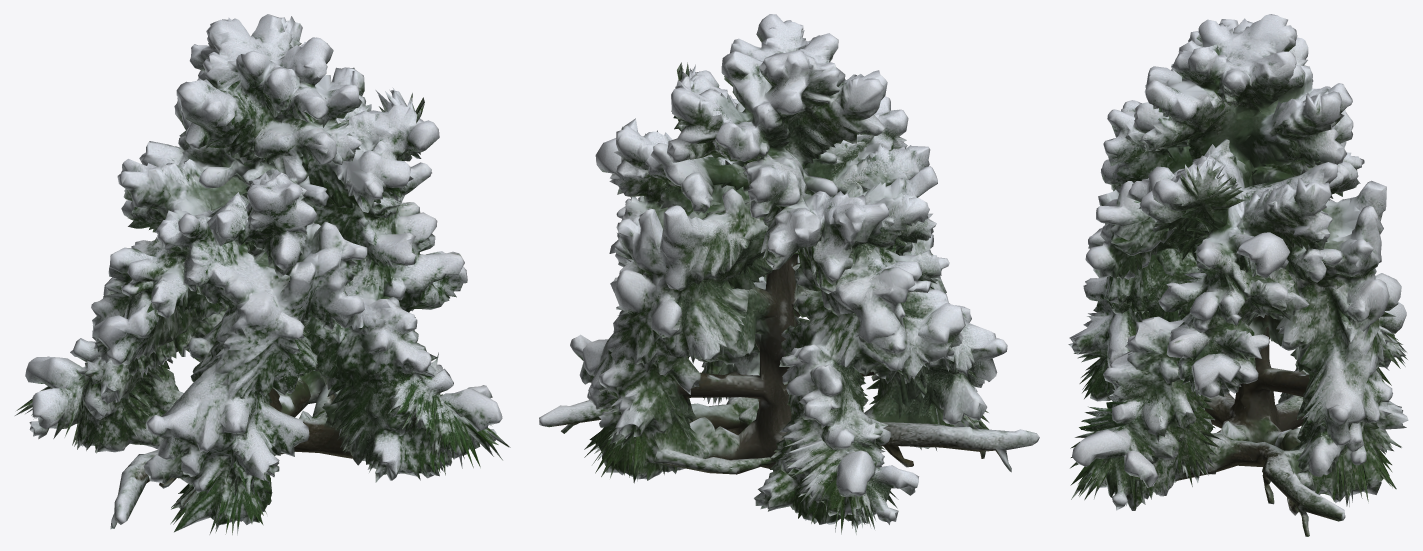
Rendered from pine_snow.glb.
The picture shows the model from 3 angles, left to right: view 1: azimuth 30°, elevation 25°; view 2: azimuth 150°, elevation 25°; view 3: azimuth 270°, elevation 25°; orthographic projection. The views are drawn at different scales.
Size of the model in its own units: 1.84 by 1.89 by 1.38.
1 material, 1 textured.
